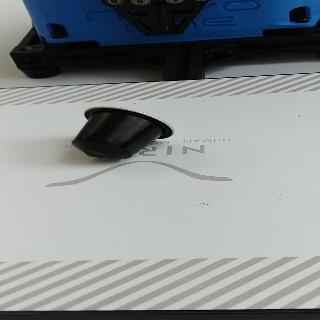capsule_10: (71, 105, 175, 159)
